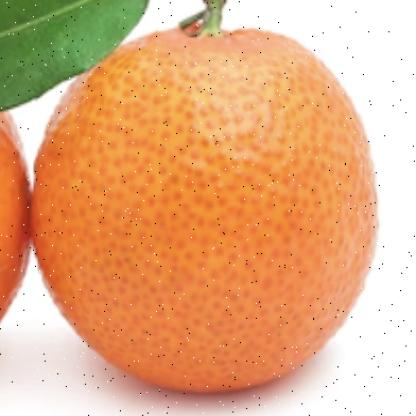fresh: (30, 14, 378, 395)
